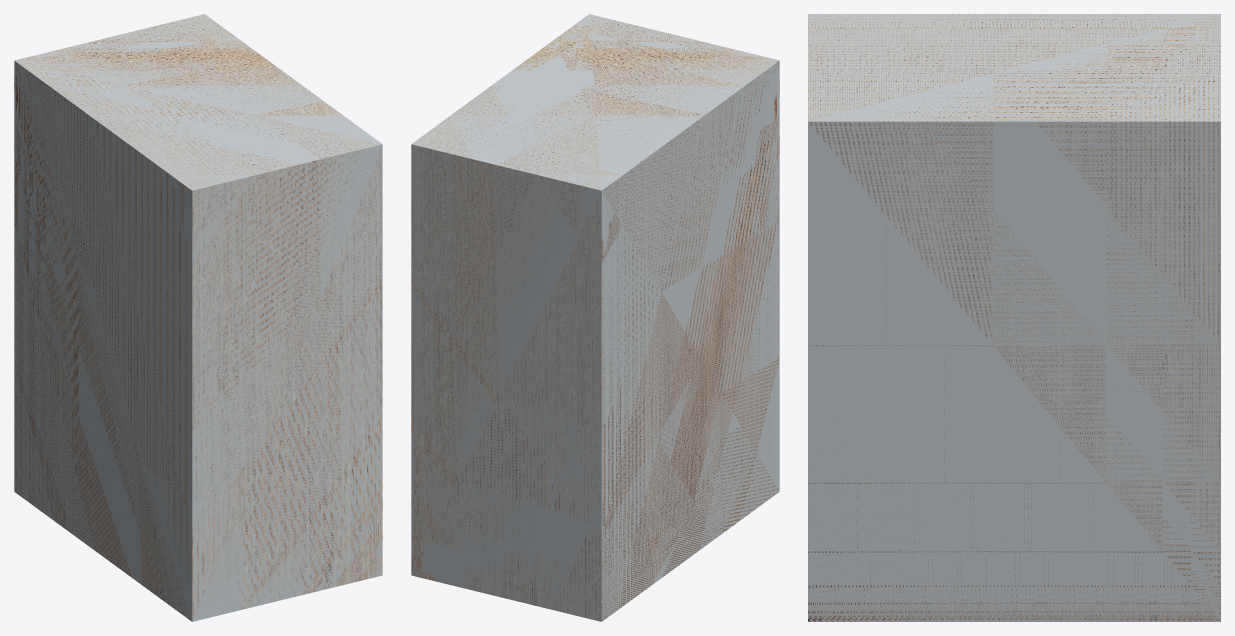
The model's file is nyatuh.glb.
3 views of the same model, side by side, from view 1: azimuth 30°, elevation 25°; view 2: azimuth 150°, elevation 25°; view 3: azimuth 270°, elevation 25° (orthographic). The views are drawn at different scales.
Parts seen in each view (by area): view 1: BackSide, FrontSide; view 2: BackSide, FrontSide; view 3: BackSide, FrontSide.
Part boxes in pixels (box(x1,y1,x2,y2)): BackSide: box(14, 14, 382, 621); FrontSide: box(14, 14, 382, 620); BackSide: box(411, 14, 779, 621); FrontSide: box(411, 14, 779, 620); BackSide: box(808, 14, 1220, 621); FrontSide: box(808, 14, 1220, 621).
Size of the model in its own units: 1.6 by 3.46 by 2.59.
Materials: 4 (3 with a texture image).
